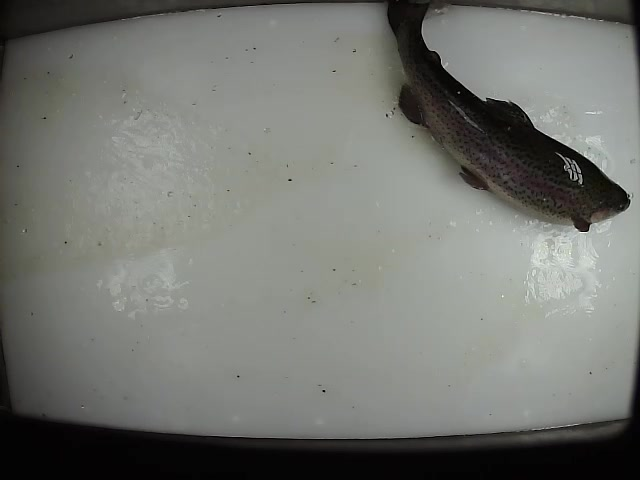fish: (385, 1, 632, 235)
